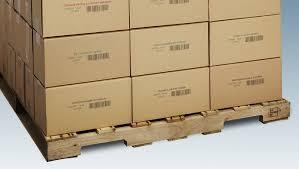Cardboard: (0, 0, 299, 128)
